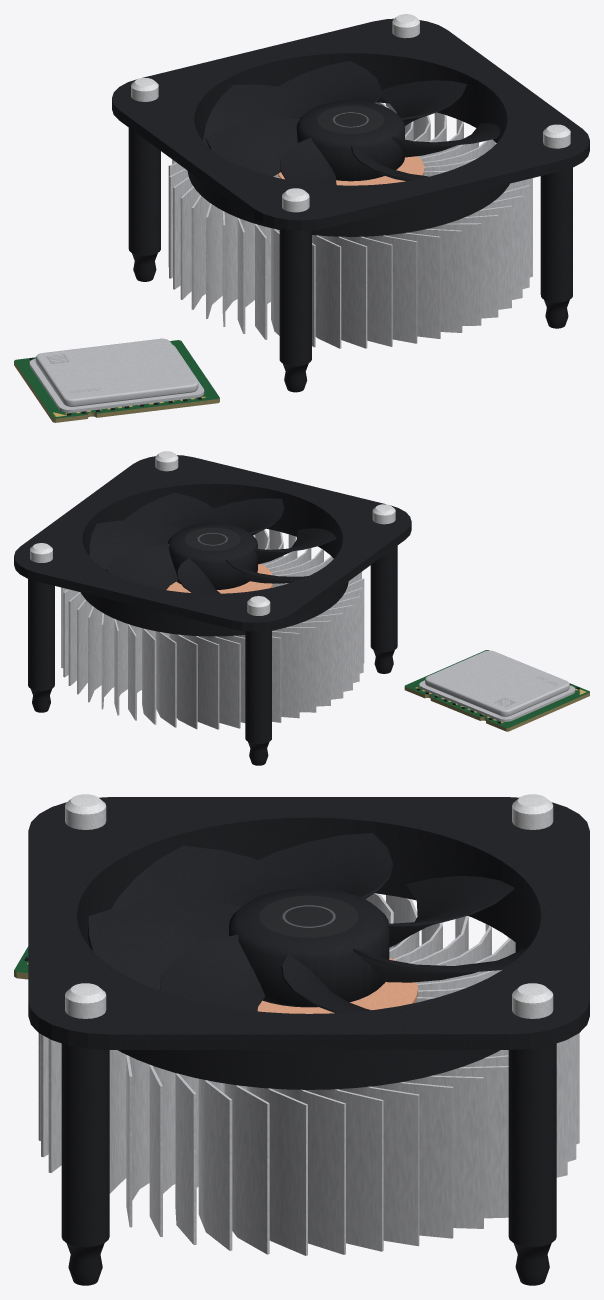
The model's file is cpu-with-cooler.glb.
3 views of the same model, one above another, from view 1: azimuth 30°, elevation 25°; view 2: azimuth 150°, elevation 25°; view 3: azimuth 270°, elevation 25° (orthographic). The views are drawn at different scales.
Visible parts, largest first — view 1: Fan shroud, Aluminium fins, Fan blades, Push-pin towers, Integrated heat spreader, Fan hub, Processor package substrate, Push-pin caps, Copper core; view 2: Fan shroud, Aluminium fins, Fan blades, Push-pin towers, Integrated heat spreader, Fan hub, Processor package substrate, Push-pin caps, Copper core; view 3: Fan shroud, Aluminium fins, Fan blades, Push-pin towers, Fan hub, Push-pin caps, Copper core.
Part boxes in pixels (x1=…): Fan shroud: x1=112, y1=18, x2=589, y2=236; Aluminium fins: x1=168, y1=102, x2=532, y2=348; Fan blades: x1=202, y1=61, x2=500, y2=185; Push-pin towers: x1=128, y1=128, x2=572, y2=392; Integrated heat spreader: x1=29, y1=338, x2=204, y2=412; Fan hub: x1=296, y1=100, x2=404, y2=181; Processor package substrate: x1=14, y1=340, x2=219, y2=422; Push-pin caps: x1=131, y1=14, x2=570, y2=212; Copper core: x1=278, y1=156, x2=424, y2=236; Fan shroud: x1=14, y1=455, x2=411, y2=636; Aluminium fins: x1=61, y1=529, x2=364, y2=729; Fan blades: x1=88, y1=492, x2=336, y2=593; Push-pin towers: x1=28, y1=545, x2=397, y2=765; Integrated heat spreader: x1=419, y1=650, x2=575, y2=721; Fan hub: x1=168, y1=523, x2=257, y2=589; Processor package substrate: x1=404, y1=650, x2=589, y2=731; Push-pin caps: x1=30, y1=451, x2=395, y2=615; Copper core: x1=166, y1=564, x2=273, y2=593; Fan shroud: x1=28, y1=797, x2=589, y2=1089; Aluminium fins: x1=38, y1=893, x2=579, y2=1255; Fan blades: x1=88, y1=833, x2=527, y2=1013; Push-pin towers: x1=61, y1=937, x2=556, y2=1285; Fan hub: x1=229, y1=888, x2=389, y2=1007; Push-pin caps: x1=65, y1=794, x2=553, y2=1018; Copper core: x1=257, y1=957, x2=417, y2=1013.
Bounding box in the file's own units: 0.1612 × 0.0562 × 0.1005.
12 materials, 12 textured.
